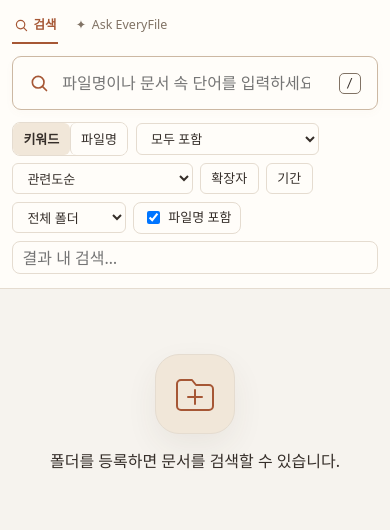
SearchWorkspace › explains and disables unsupported filename-only combinations
The image size is (390, 530).
Click the button "파일명" at (99, 139), box [70, 123, 127, 155]
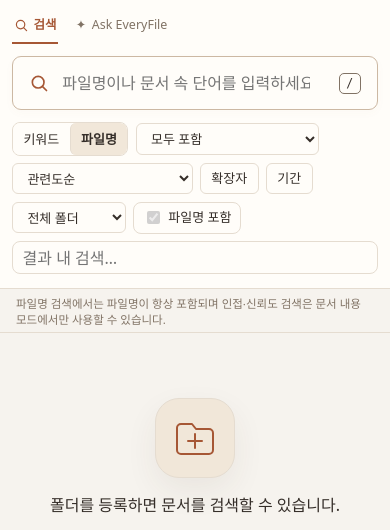
expect the checkbox labelled "파일명 포함" is disabled: met, box [147, 211, 160, 224]
expect the text "파일명 검색에서는 파일명이 항상 포함되며 인접·신뢰도 검색은 문서 내용 모드에서만 사용할 수 있습니다." is shown: met, box [0, 289, 389, 333]
